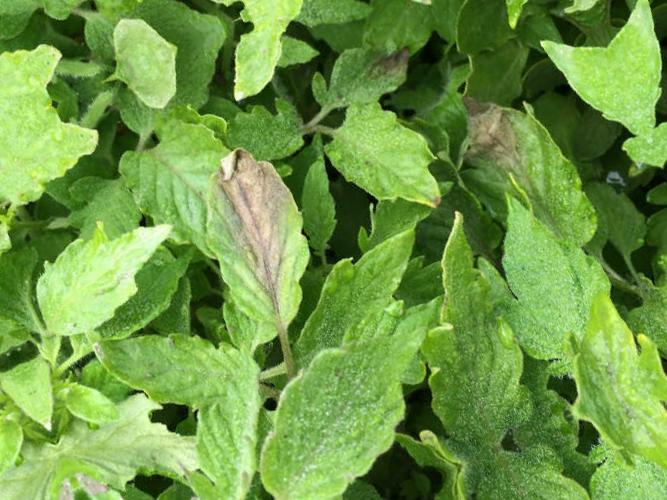Tomato mold leaf: (357, 196, 577, 464), (220, 298, 500, 500), (151, 129, 363, 363), (436, 64, 618, 290), (125, 344, 342, 500), (87, 275, 280, 442), (462, 176, 615, 383), (20, 202, 213, 345), (304, 85, 449, 237)
